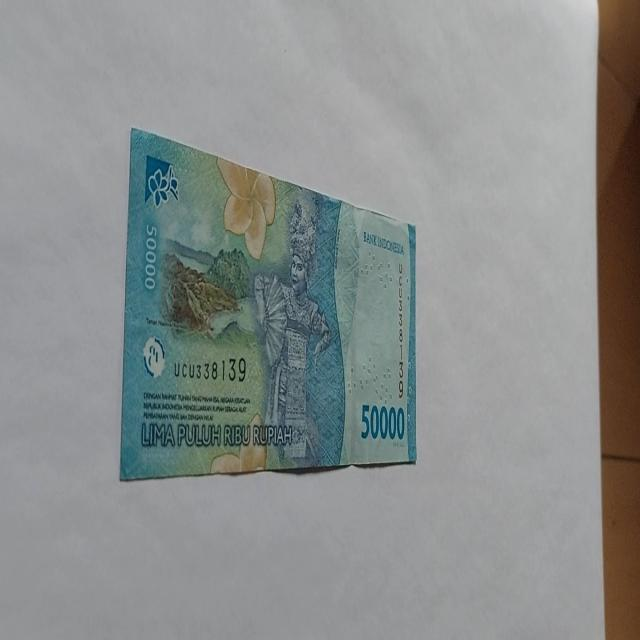lima puluh ribu rupiah: (119, 125, 418, 482)
